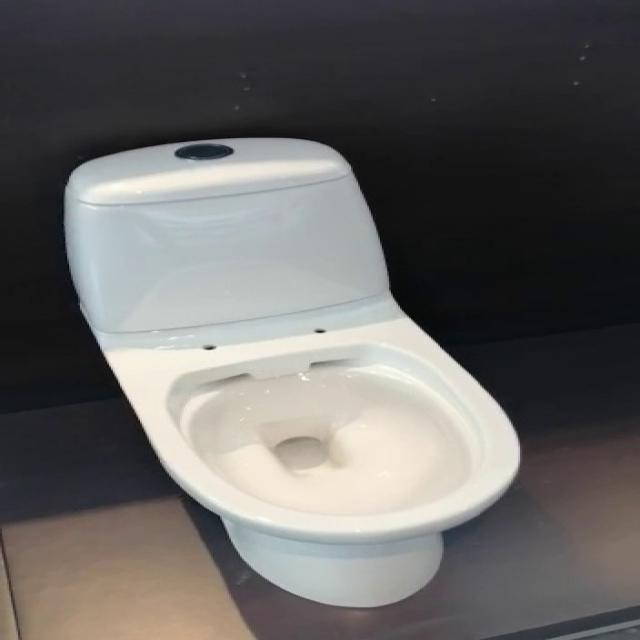toilet: (62, 136, 522, 607)
